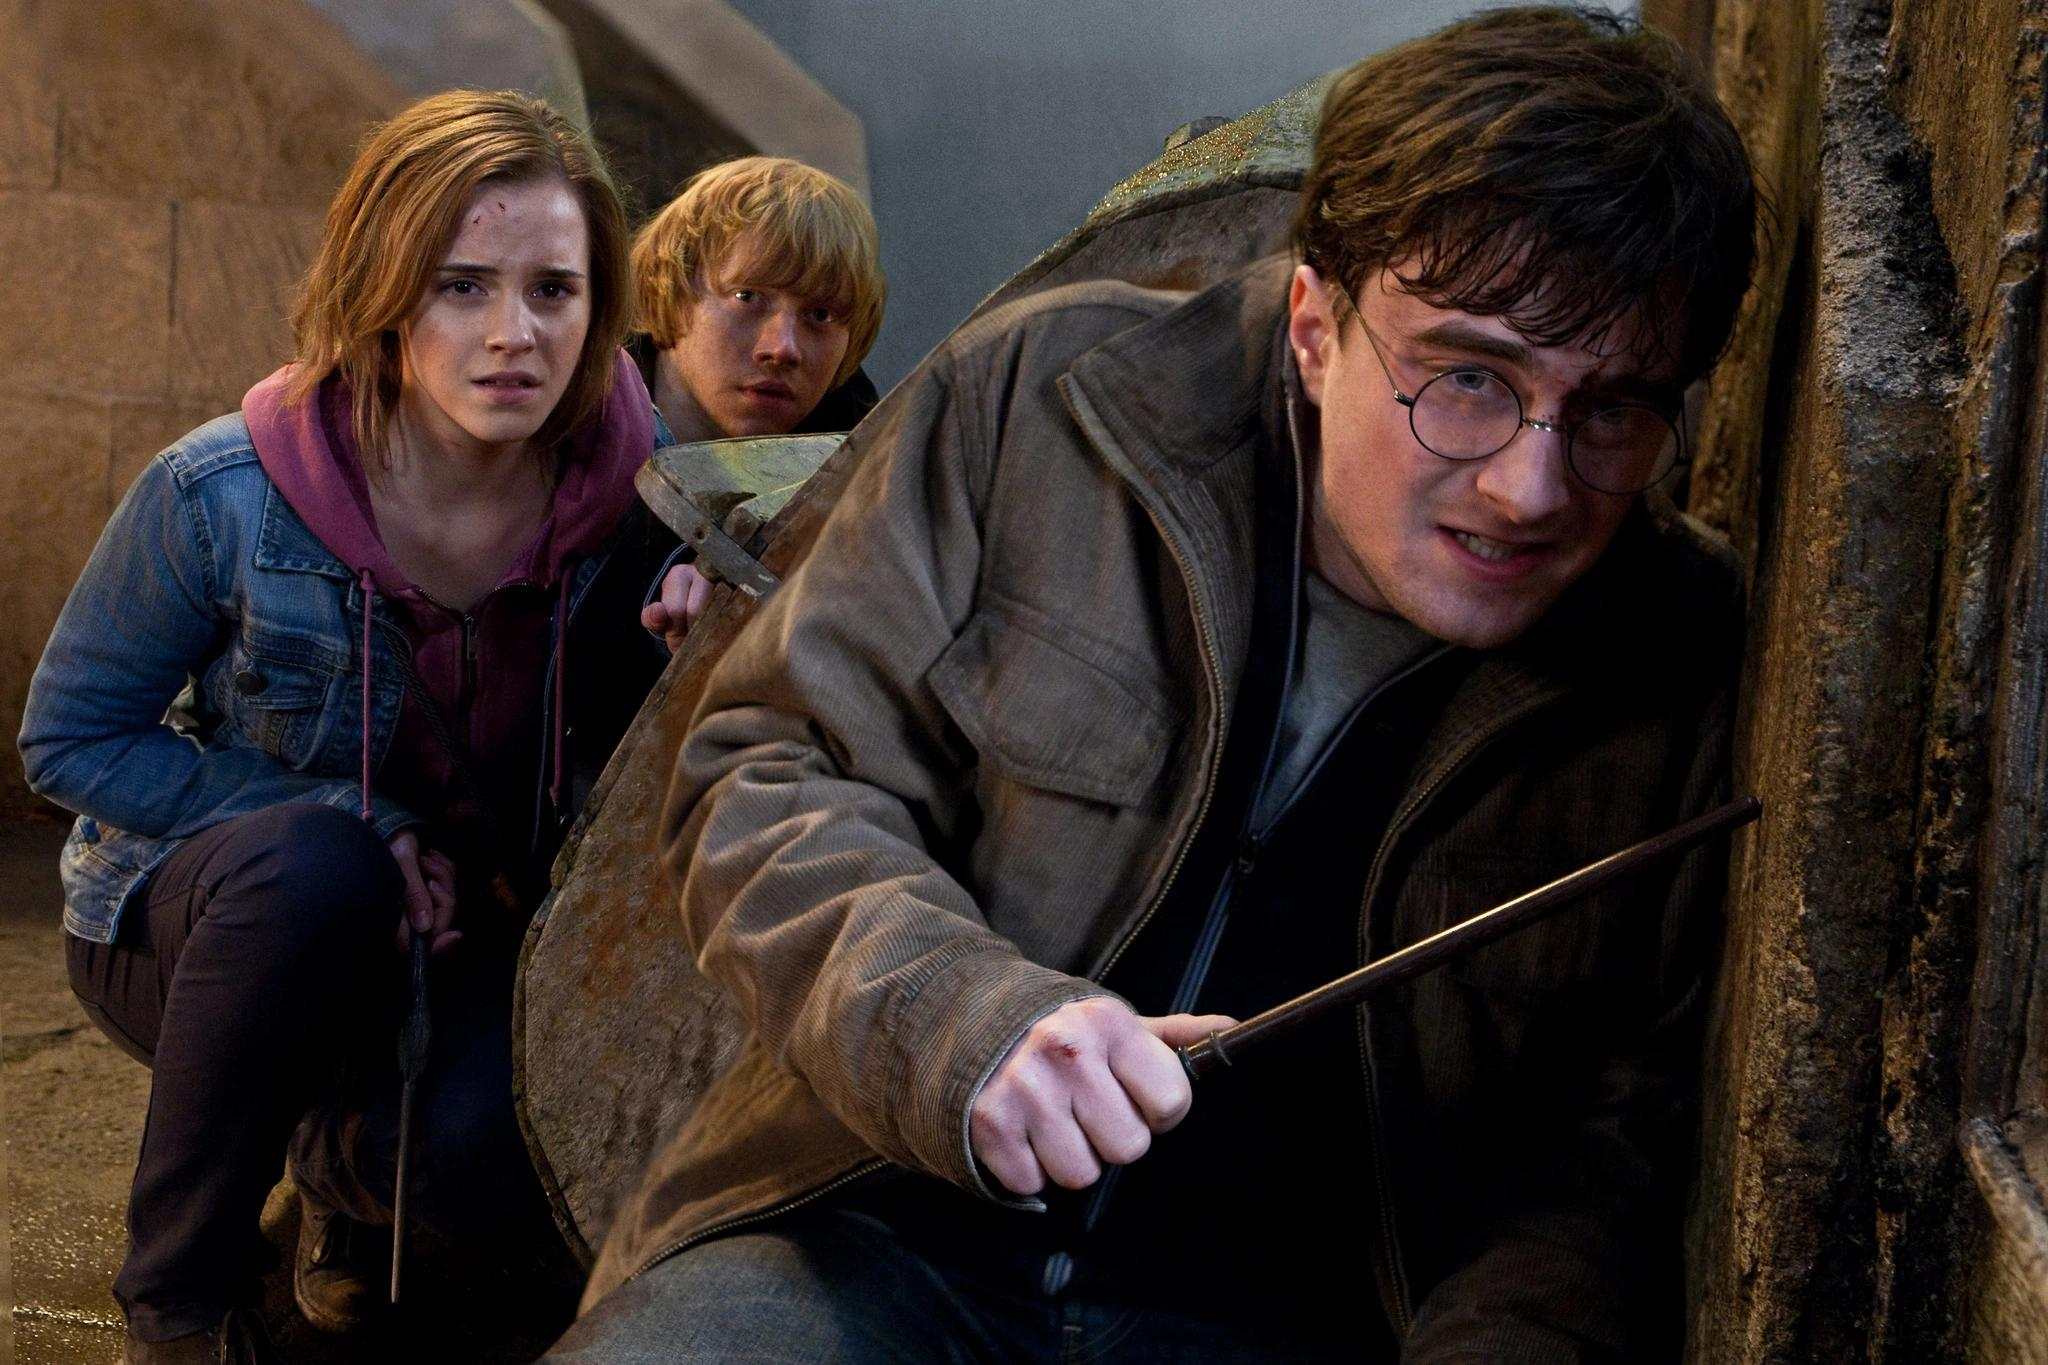fist: (923, 970, 1256, 1202)
